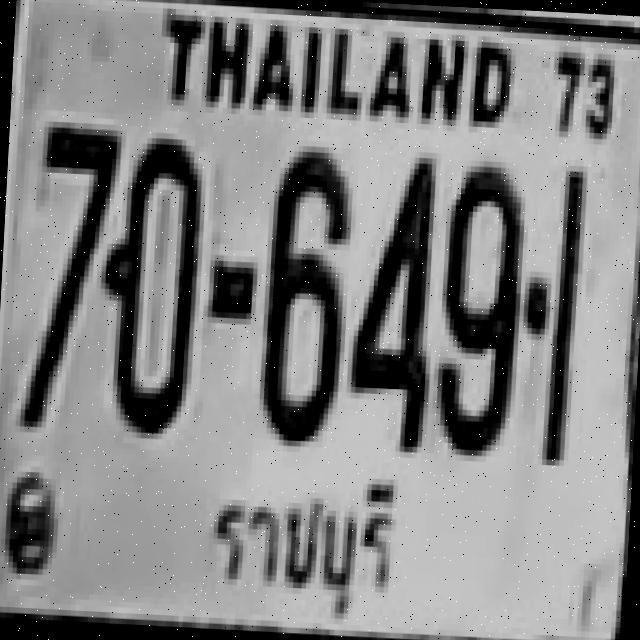0: (96, 130, 202, 430)
4: (344, 149, 436, 447)
6: (255, 142, 352, 440)
7: (16, 120, 118, 424), (23, 121, 120, 419)
9: (432, 160, 526, 452)
Ratchaburi: (188, 450, 422, 638)
